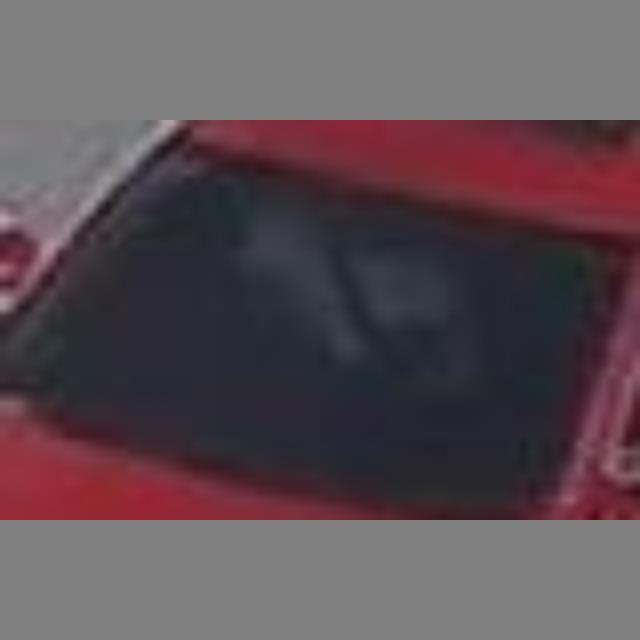pakai: (200, 192, 488, 432)
